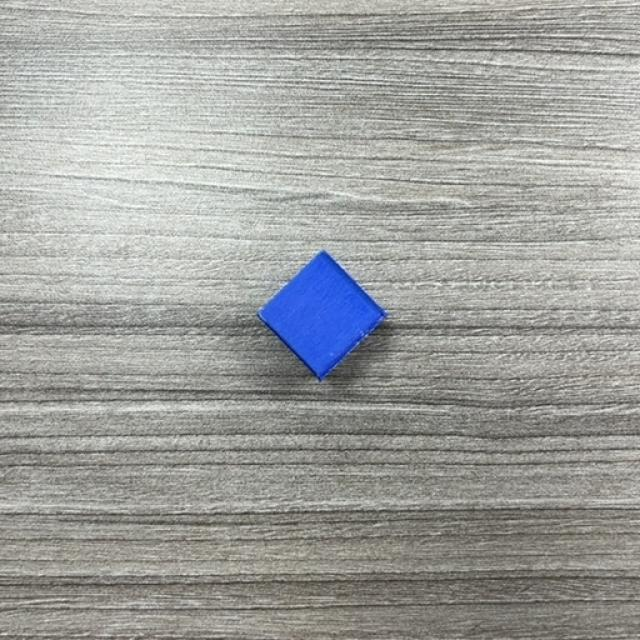Azul: (256, 251, 389, 382)
